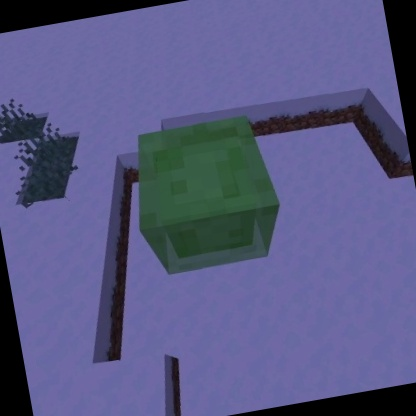slime: (117, 107, 294, 285)
